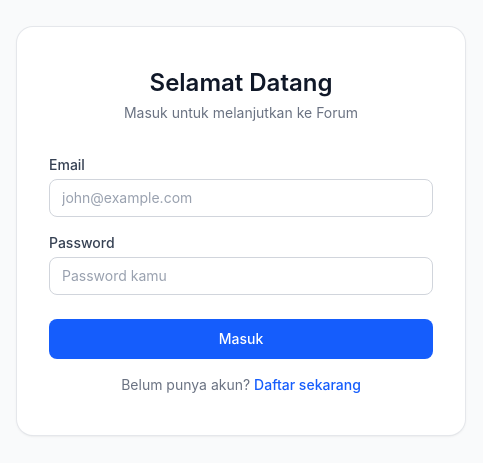
Test: Login Page — E2E › Halaman login ditampilkan dengan benar › harus menampilkan error validasi format email yang tidak valid
Type "bukan-format-email" into the field with id "login-email" at (241, 198), box [49, 179, 433, 217]
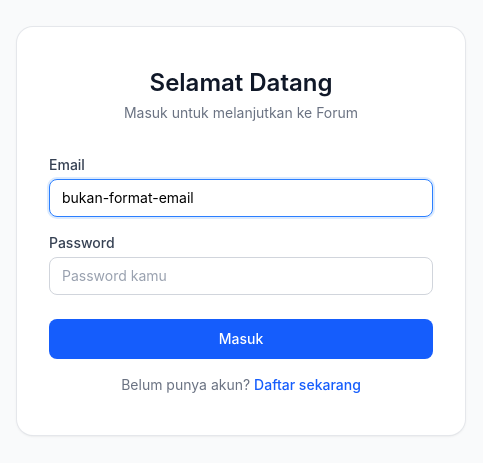
Type "password123" into the password field with id "login-password" at (241, 276), box [49, 257, 433, 295]
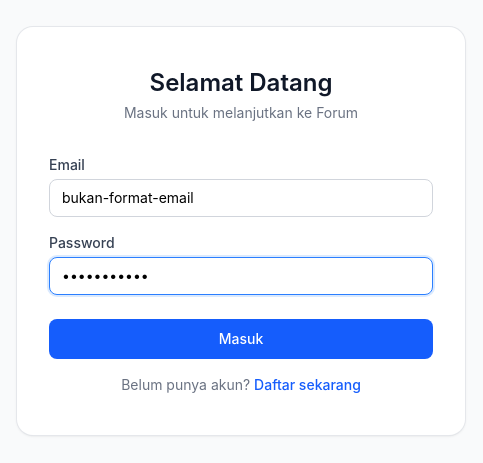
Click the submit button at (241, 339), box [49, 319, 433, 359]
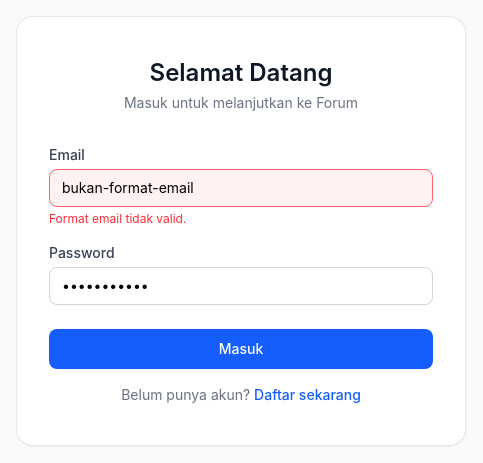
Result: the text "Format email tidak valid." is shown at [49, 211, 186, 226]
